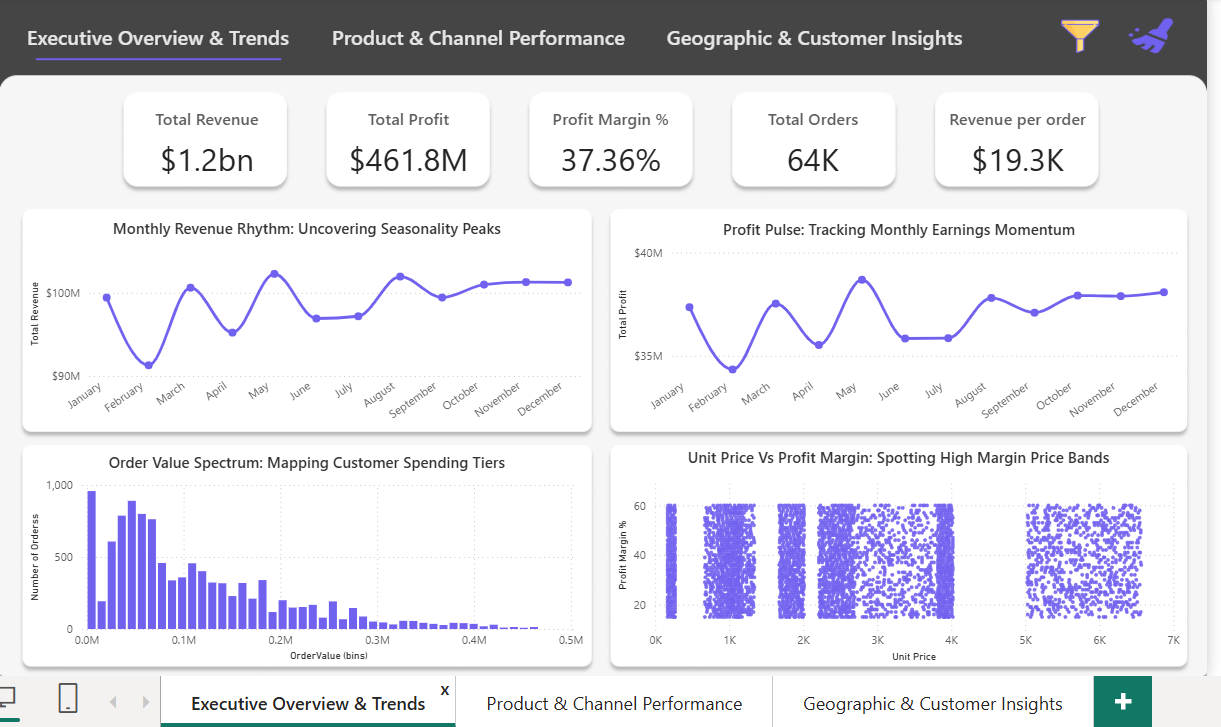

What the dashboard file says about the page in this screenshot:
{"tool":"powerbi","page":{"name":"Executive Overview & Trends","canvas":[1280,720],"ordinal":0},"visuals":[{"type":"cardVisual","fields":{"Data":["Measures_.Total Revenue"]},"box":[142,101,158,104],"z":0},{"type":"cardVisual","fields":{"Data":["Measures_.Total Profit"]},"box":[350,100,169.2,103.8],"z":1000},{"type":"cardVisual","fields":{"Data":["Measures_.Profit Margin %"]},"box":[552.6,100,194.9,103.8],"z":2000},{"type":"cardVisual","fields":{"Data":["Measures_.Total Orders"]},"box":[787.2,100,152.6,103.8],"z":3000},{"type":"cardVisual","fields":{"Data":["Measures_.Revenue per order"]},"box":[988.3,100,185,103.3],"z":4000},{"type":"lineChart","title":"Monthly Revenue Rhythm: Uncovering Seasonality Peaks","fields":{"Category":["Sales_data.order_month_name"],"Y":["Measures_.Total Revenue"]},"box":[26.9,233.3,598.7,235.9],"z":5000},{"type":"lineChart","title":"Profit Pulse: Tracking Monthly Earnings Momentum","fields":{"Category":["Sales_data.order_month_name"],"Y":["Measures_.Total Profit"]},"box":[650,234.6,607.7,234.6],"z":6000},{"type":"scatterChart","title":"Unit Price Vs Profit Margin: Spotting High Margin Price Bands","fields":{"X":["Sales_data.unit_price"],"Y":["Sales_data.profit_margin_pct"]},"box":[650,476.9,606.4,232.1],"z":7000},{"type":"columnChart","title":"Order Value Spectrum: Mapping Customer Spending Tiers","fields":{"Category":["Order_Value_Distribution.OrderValue (bins)"],"Y":["CountNonNull(Order_Value_Distribution.order_number)"]},"box":[26.9,482.1,598.7,226.9],"z":8000},{"type":"actionButton","box":[337.2,14.1,342.3,55.1],"z":10000},{"type":"actionButton","box":[9,14.1,317.9,55.1],"z":11000},{"type":"actionButton","box":[693.8,13.8,342.5,55],"z":12000},{"type":"actionButton","box":[1188,14,70,55],"z":14000},{"type":"actionButton","box":[1120,21,53,42],"z":14500}]}

Visuals, with their boxes on the page's 1280x720 design canvas (x1, y1, x2, y2). These are canvas units, not pixel positions in the 1221x727 screenshot, which may show the page scaled, cropped or inside an application window:
cardVisual - Measures_.Total Revenue: select_region(142, 101, 300, 205)
cardVisual - Measures_.Total Profit: select_region(350, 100, 519, 204)
cardVisual - Measures_.Profit Margin %: select_region(553, 100, 748, 204)
cardVisual - Measures_.Total Orders: select_region(787, 100, 940, 204)
cardVisual - Measures_.Revenue per order: select_region(988, 100, 1173, 203)
"Monthly Revenue Rhythm: Uncovering Seasonality Peaks" lineChart: select_region(27, 233, 626, 469)
"Profit Pulse: Tracking Monthly Earnings Momentum" lineChart: select_region(650, 235, 1258, 469)
"Unit Price Vs Profit Margin: Spotting High Margin Price Bands" scatterChart: select_region(650, 477, 1256, 709)
"Order Value Spectrum: Mapping Customer Spending Tiers" columnChart: select_region(27, 482, 626, 709)
actionButton: select_region(337, 14, 680, 69)
actionButton: select_region(9, 14, 327, 69)
actionButton: select_region(694, 14, 1036, 69)
actionButton: select_region(1188, 14, 1258, 69)
actionButton: select_region(1120, 21, 1173, 63)
